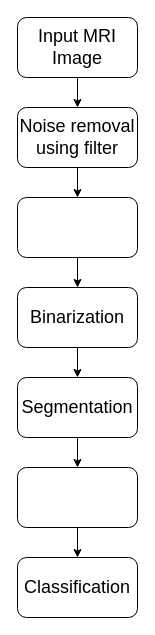
This 155x635 diagram has some shape labels left out. Each missing label, with the centre of its shape:
Skull stripping: the point at 77,227
Tumour Statistics: the point at 77,497
